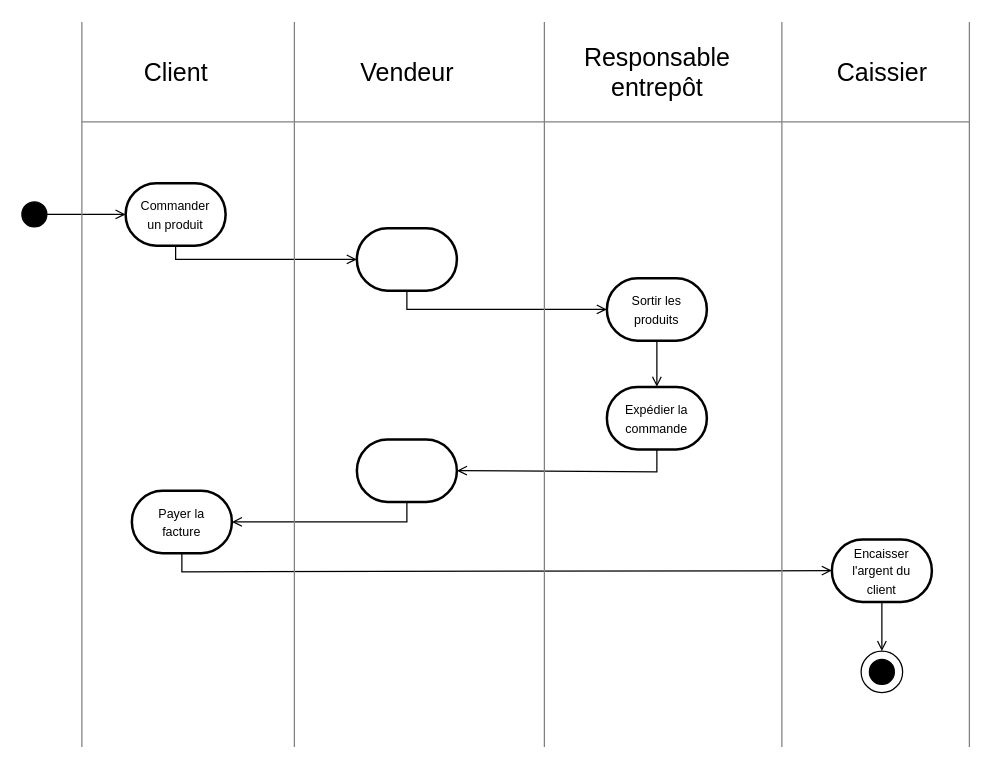
Image size: 993x770. Some labels were removed from this diagram. The centre of each missing label's shape, as x and y in pixels:
Facturer la commande au client: the point at 406,470
Traiter la commande du client: the point at 406,258
